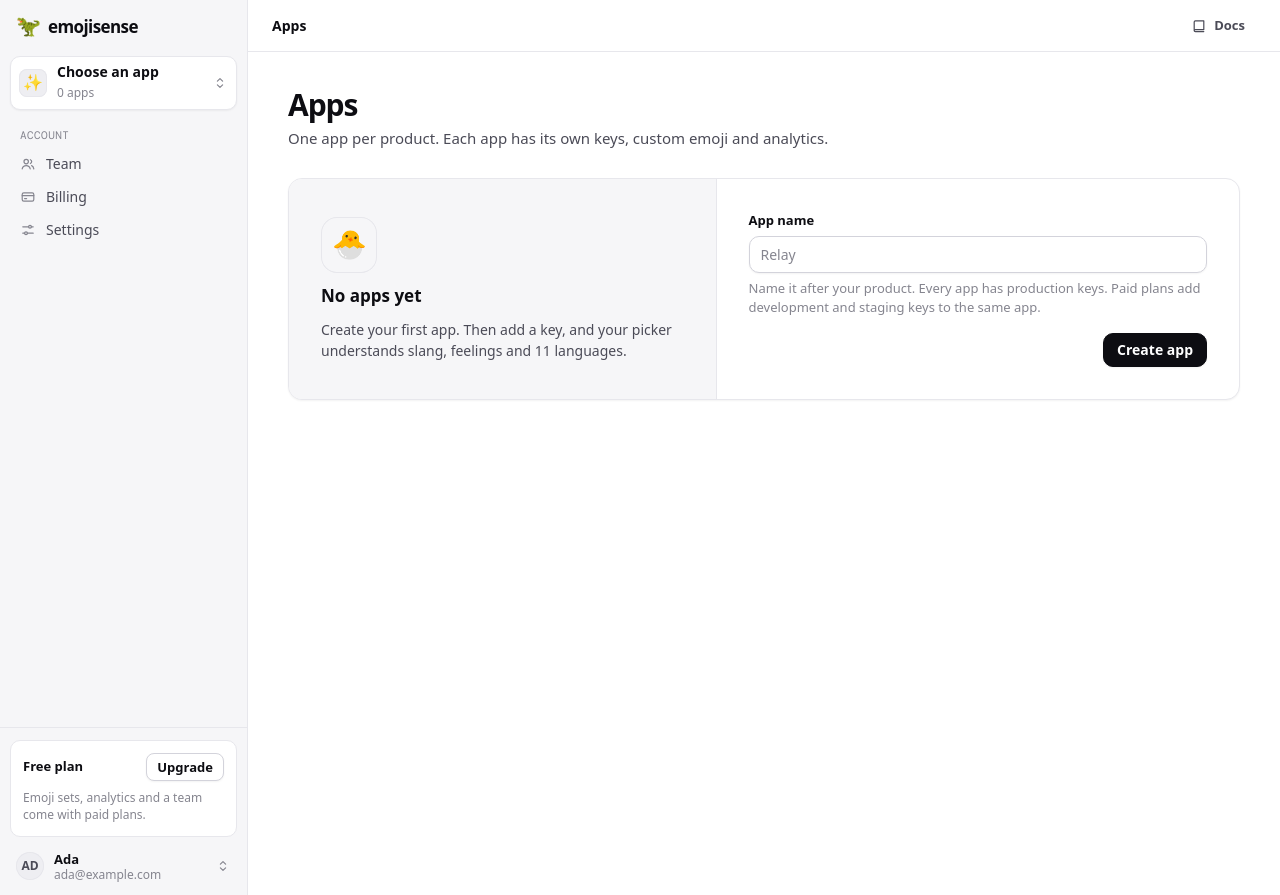
Scenario: apps page › shows an empty state and opens the new app after creating it
This screenshot has width=1280, height=895.
expect the heading "No apps yet" is shown: met, box [321, 284, 422, 307]
In the field labelled "App name": x=978, y=254 [748, 236, 1207, 273], type "Chat app"
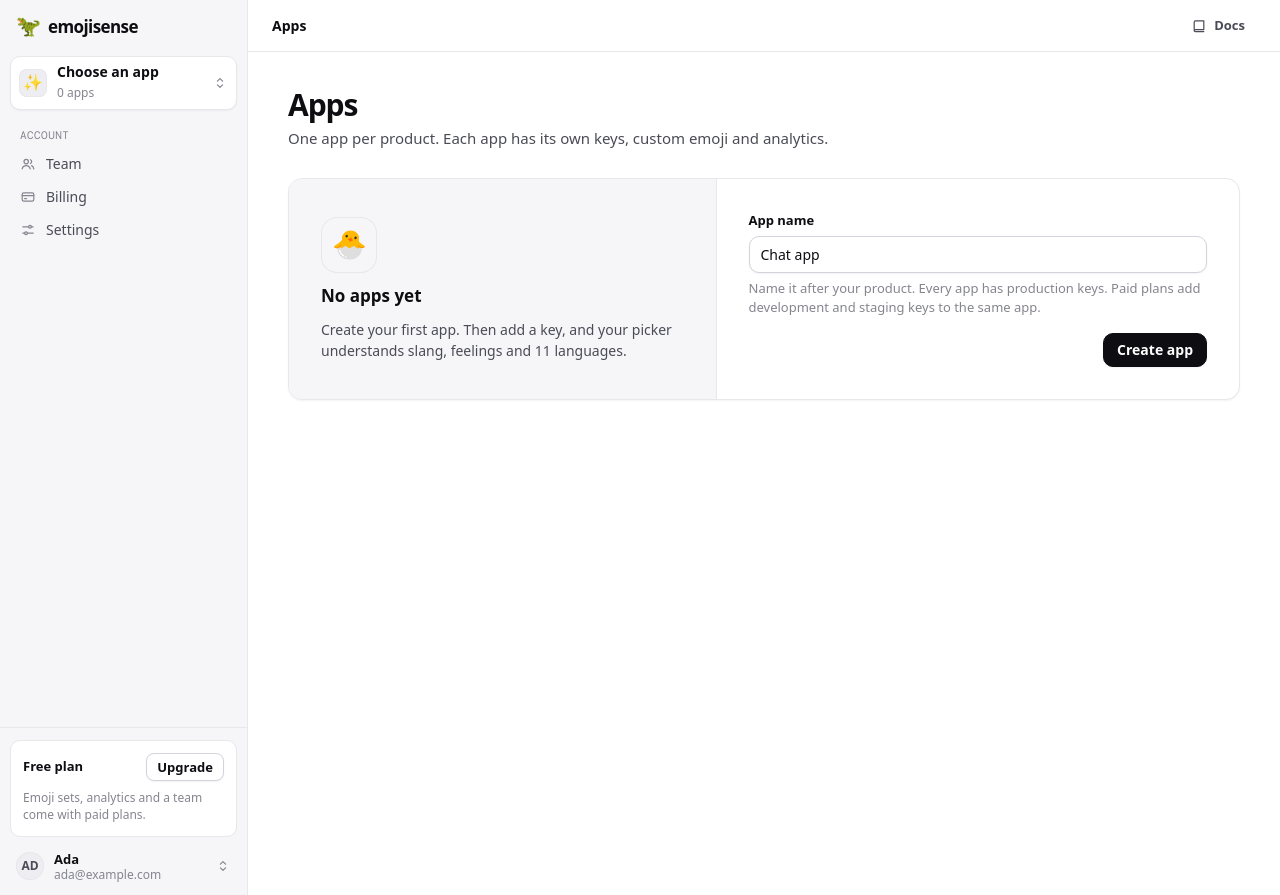
expect the field labelled "Environment" is not shown: met
Click the button "Create app": x=1155, y=350 [1103, 333, 1207, 367]
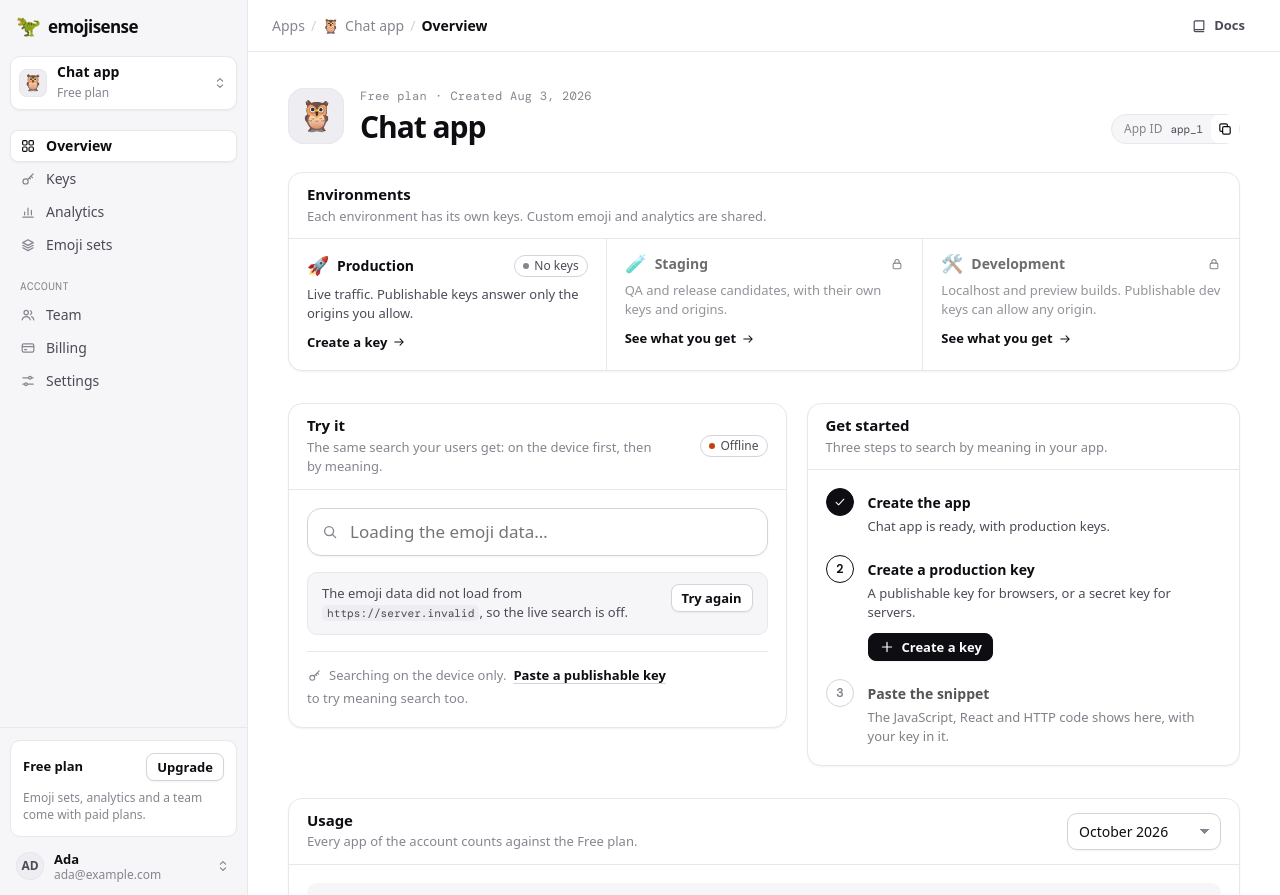
expect the heading "Chat app" is shown: met, box [360, 106, 486, 147]
